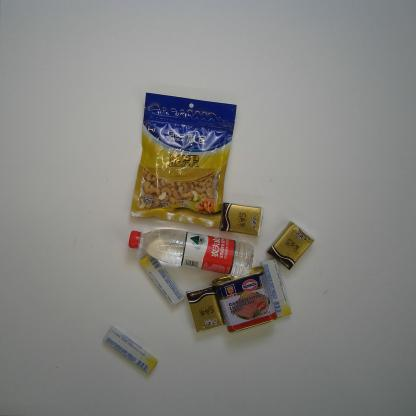Candy: (102, 325, 158, 376), (140, 252, 185, 306), (260, 256, 292, 318)
Canned Food: (211, 265, 278, 333)
Dried Fruit: (130, 92, 237, 228)
Drink: (128, 228, 254, 277)
Tissue: (266, 220, 314, 271), (185, 285, 225, 333), (219, 202, 264, 236)
